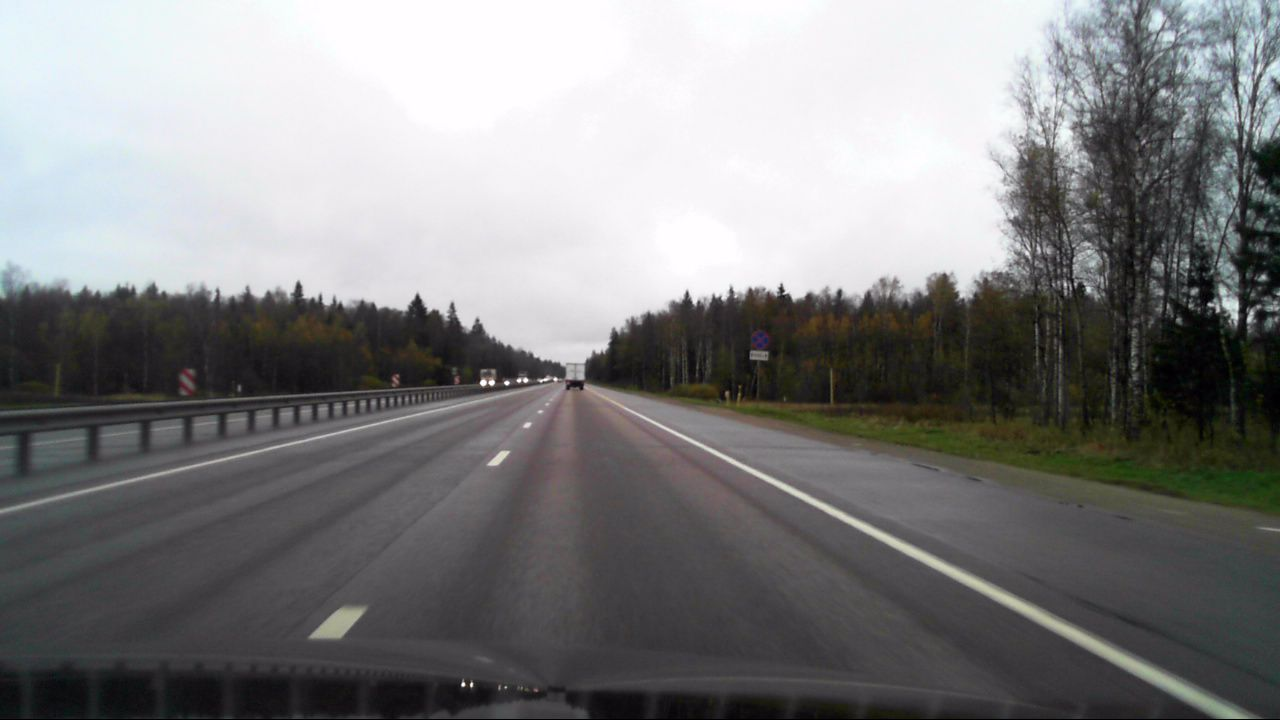No Parking: (750, 330, 769, 349)
